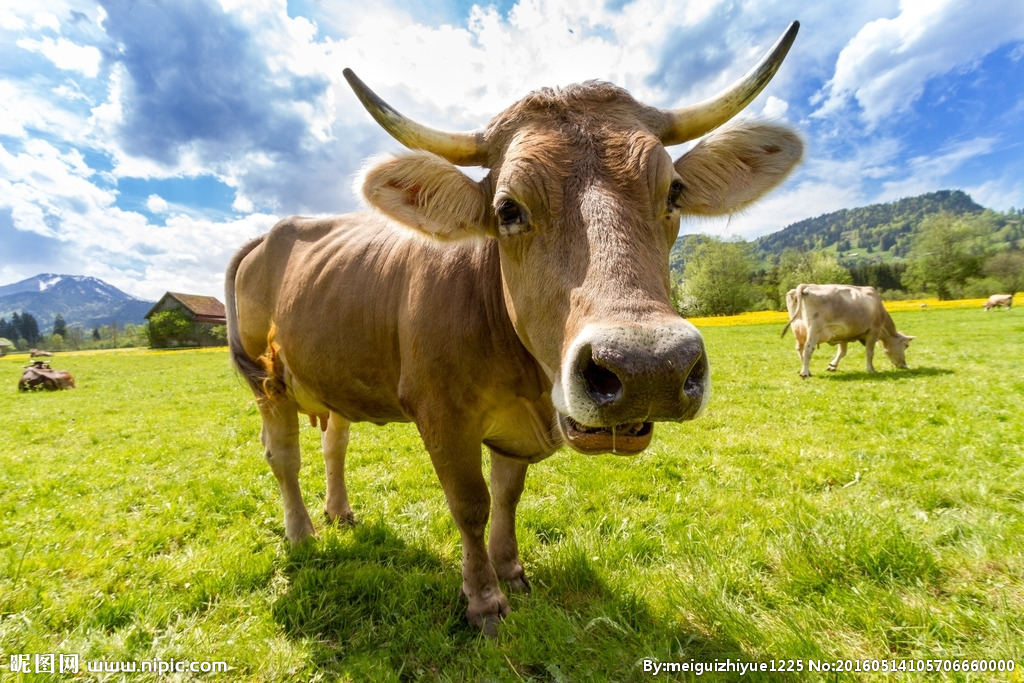background: (356, 103, 651, 321)
